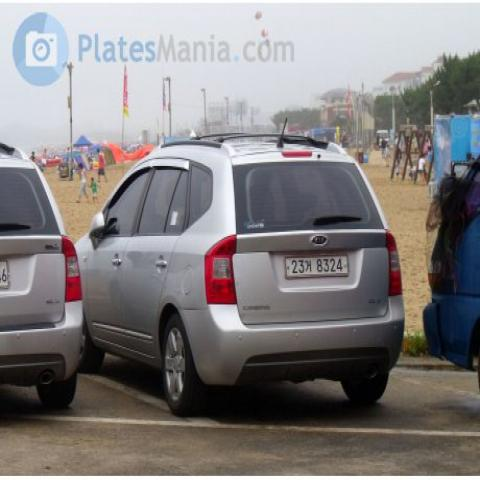LP: (277, 245, 357, 285)
